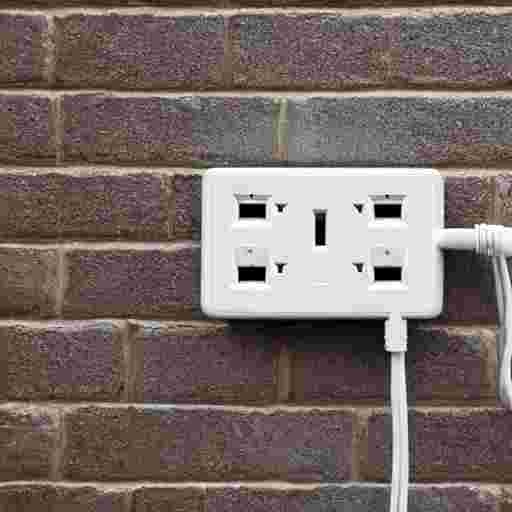power outlet: (201, 168, 443, 318)
